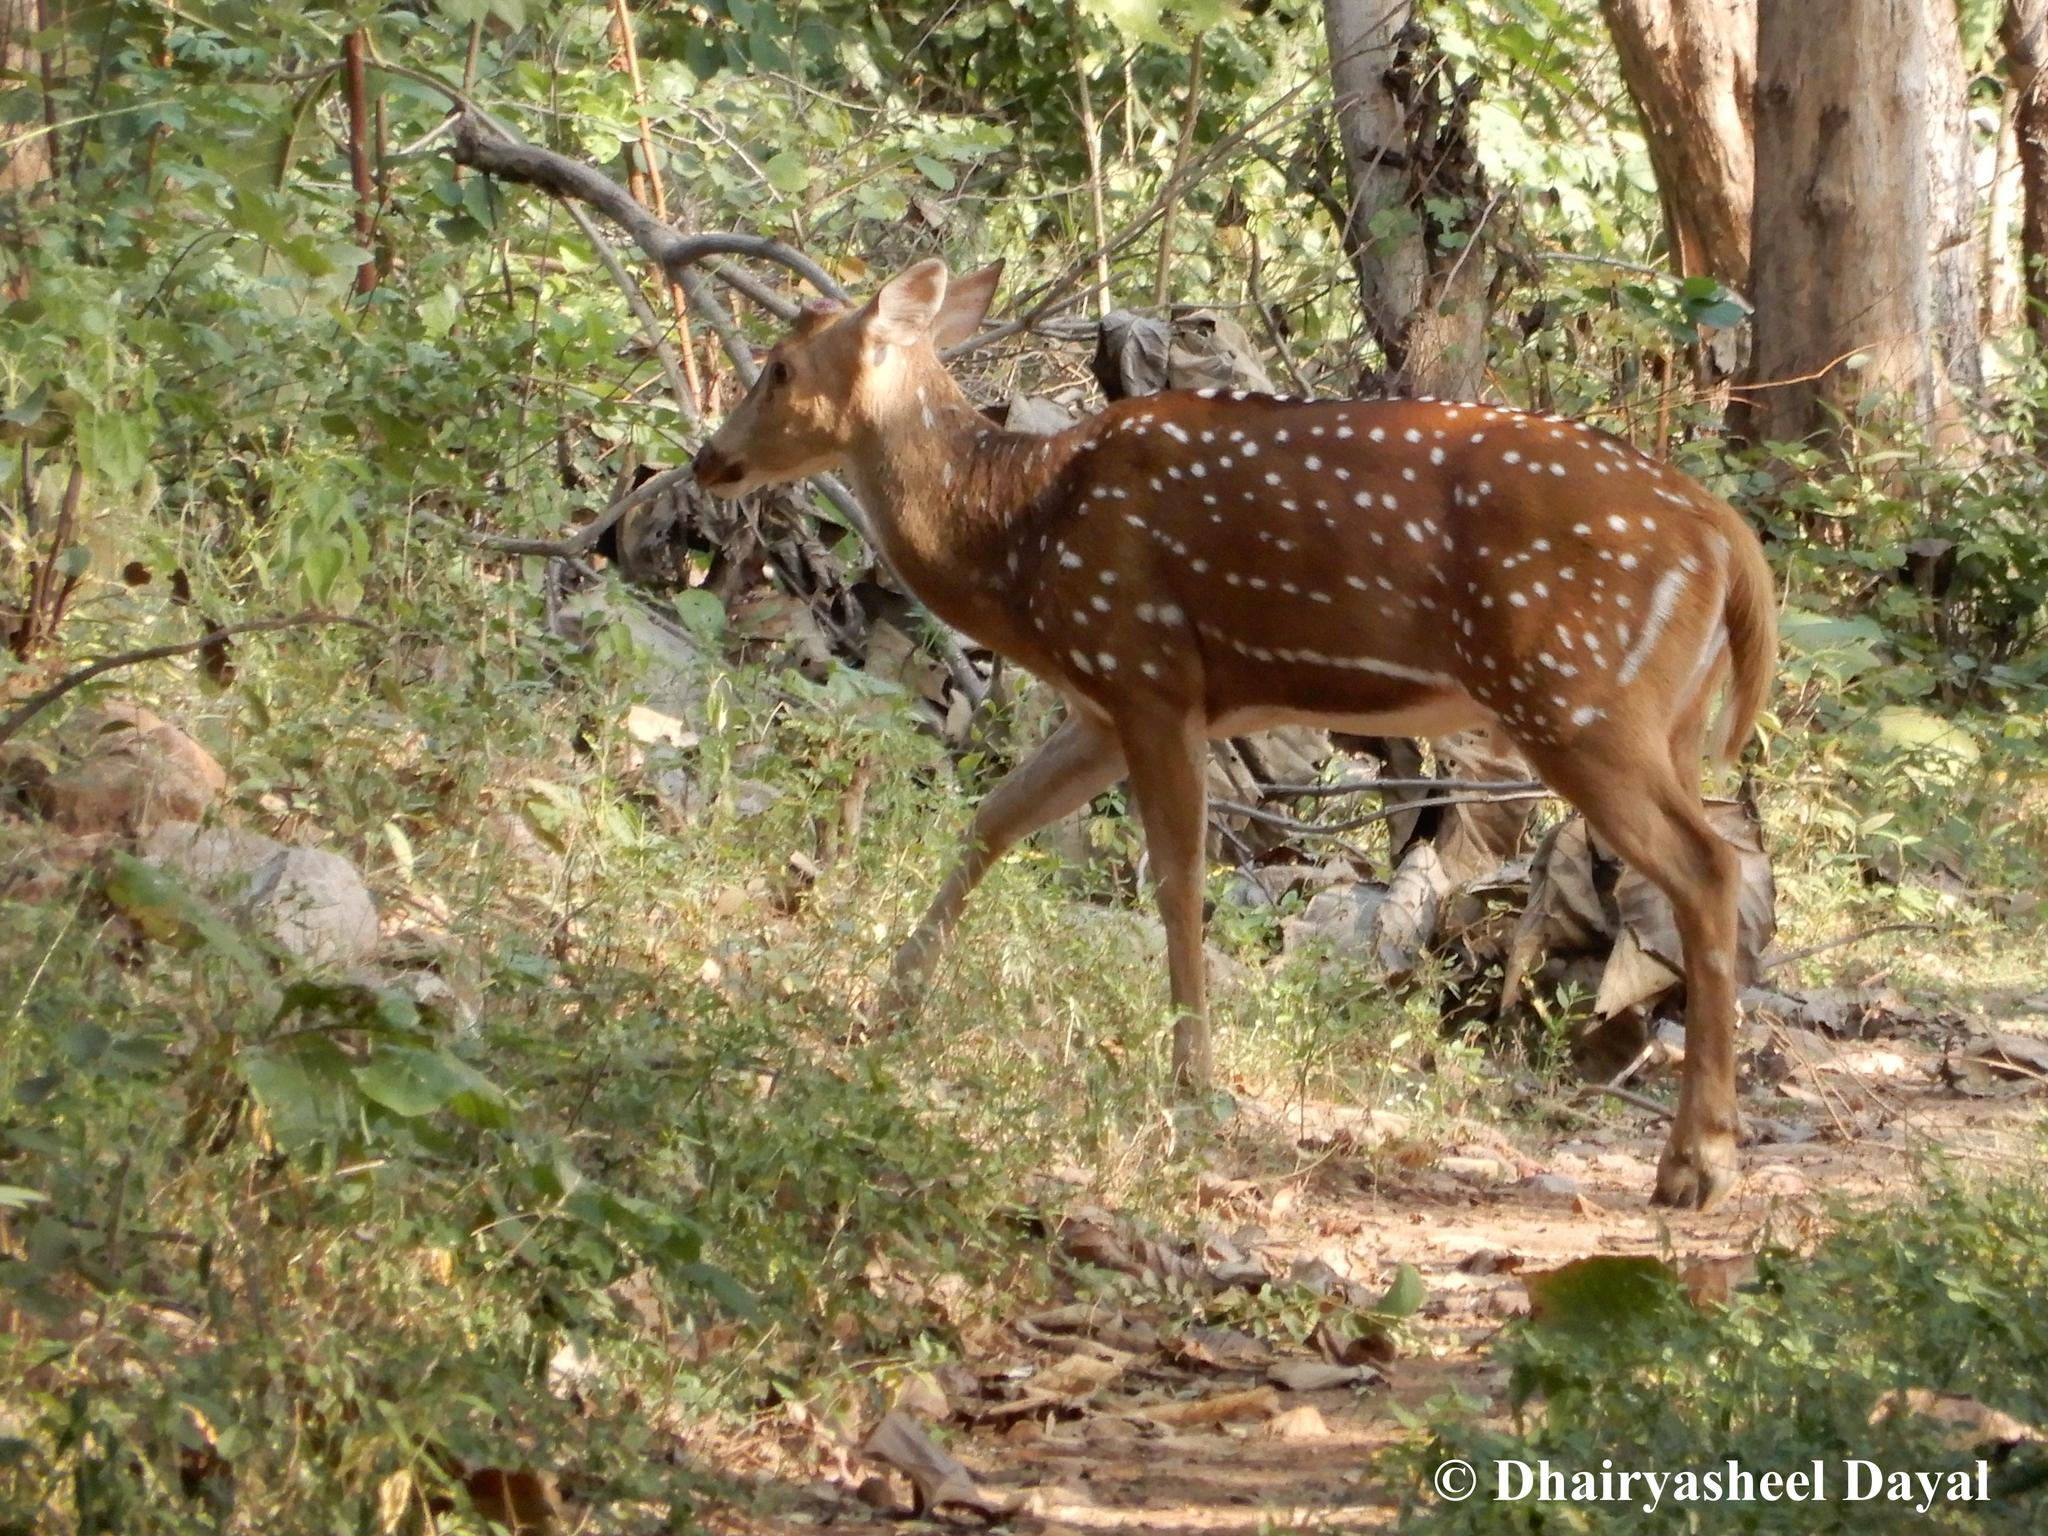Deer: (684, 260, 1775, 1208)
